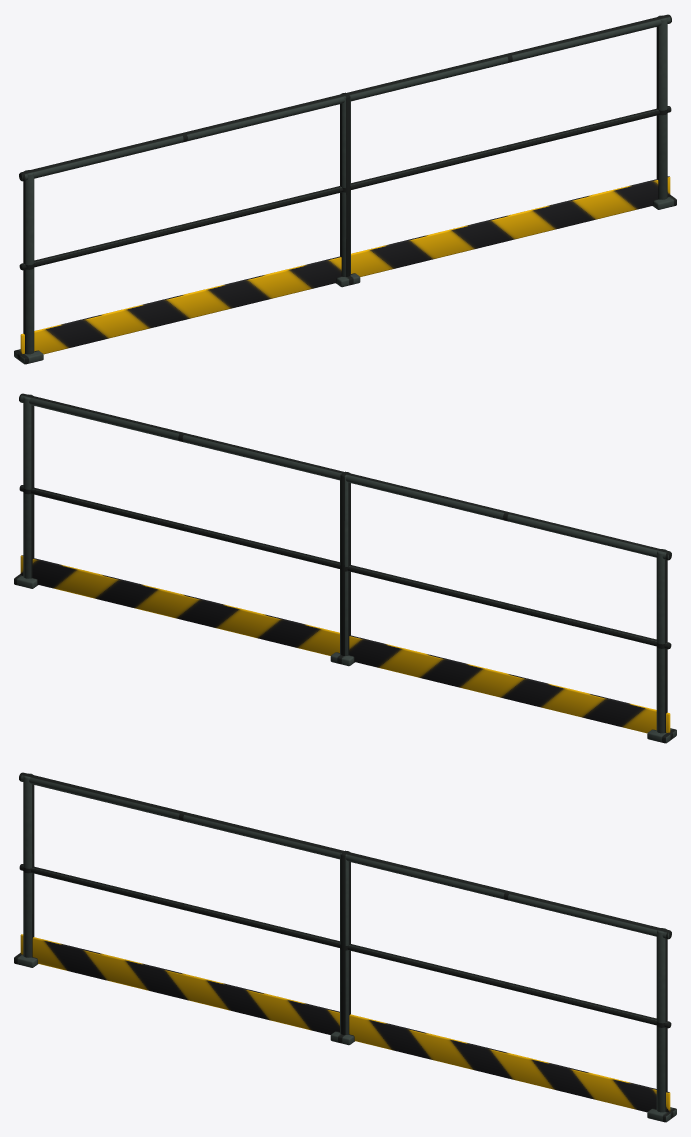
File: WK_STRUCT_RAILING_A_01.glb
3 renders of one model, top to bottom at view 1: azimuth 30°, elevation 25°; view 2: azimuth 150°, elevation 25°; view 3: azimuth 330°, elevation 25°, orthographic.
Visible parts, largest first — view 1: WK_STRUCT_RAILING_A_01; view 2: WK_STRUCT_RAILING_A_01; view 3: WK_STRUCT_RAILING_A_01.
Boxes of the visible parts, left/top/right/bottom form: WK_STRUCT_RAILING_A_01: left=14, top=14, right=676, bottom=364; WK_STRUCT_RAILING_A_01: left=14, top=393, right=676, bottom=743; WK_STRUCT_RAILING_A_01: left=14, top=772, right=676, bottom=1122.
Size of the model in its own units: 4.02 by 1.11 by 0.12.
Materials: 2 (2 with a texture image).
